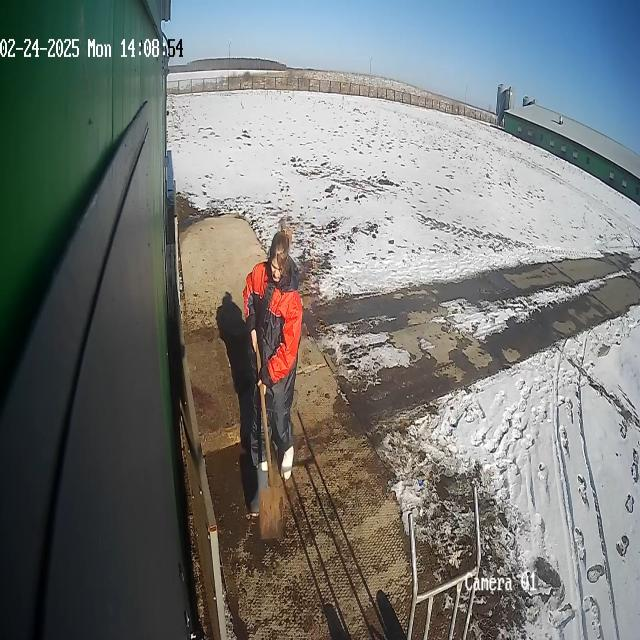Red uniform: (241, 259, 304, 475)
